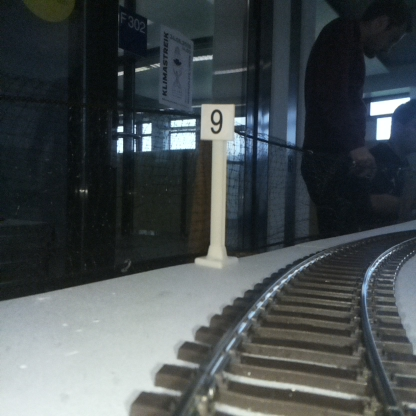white-info-9: (201, 103, 234, 267)
